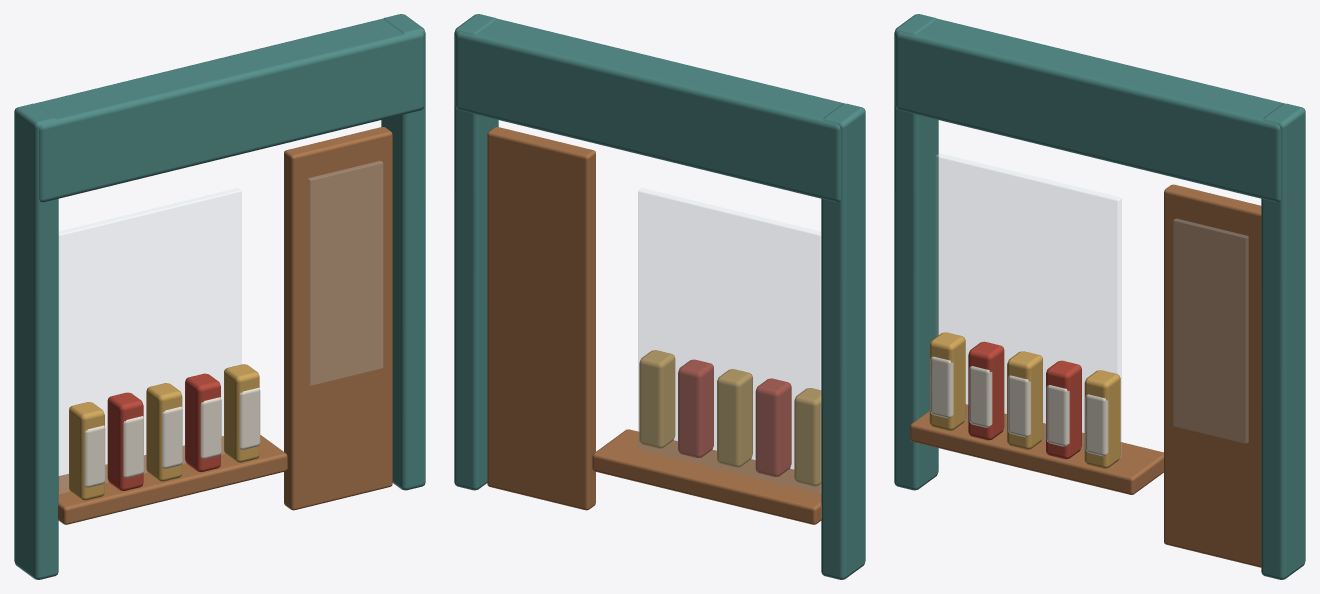
Rendered from wp-devanture-de-librairie.glb.
3 views of the same model, side by side, from view 1: azimuth 30°, elevation 25°; view 2: azimuth 150°, elevation 25°; view 3: azimuth 330°, elevation 25° (orthographic).
Parts seen in each view (by area): view 1: wp-devanture-de-librairie; view 2: wp-devanture-de-librairie; view 3: wp-devanture-de-librairie.
Boxes of the visible parts, left/top/right/bottom form: wp-devanture-de-librairie: left=14, top=14, right=425, bottom=579; wp-devanture-de-librairie: left=454, top=14, right=865, bottom=579; wp-devanture-de-librairie: left=894, top=14, right=1305, bottom=579.
Size of the model in its own units: 2.5 by 2.8 by 0.4.
